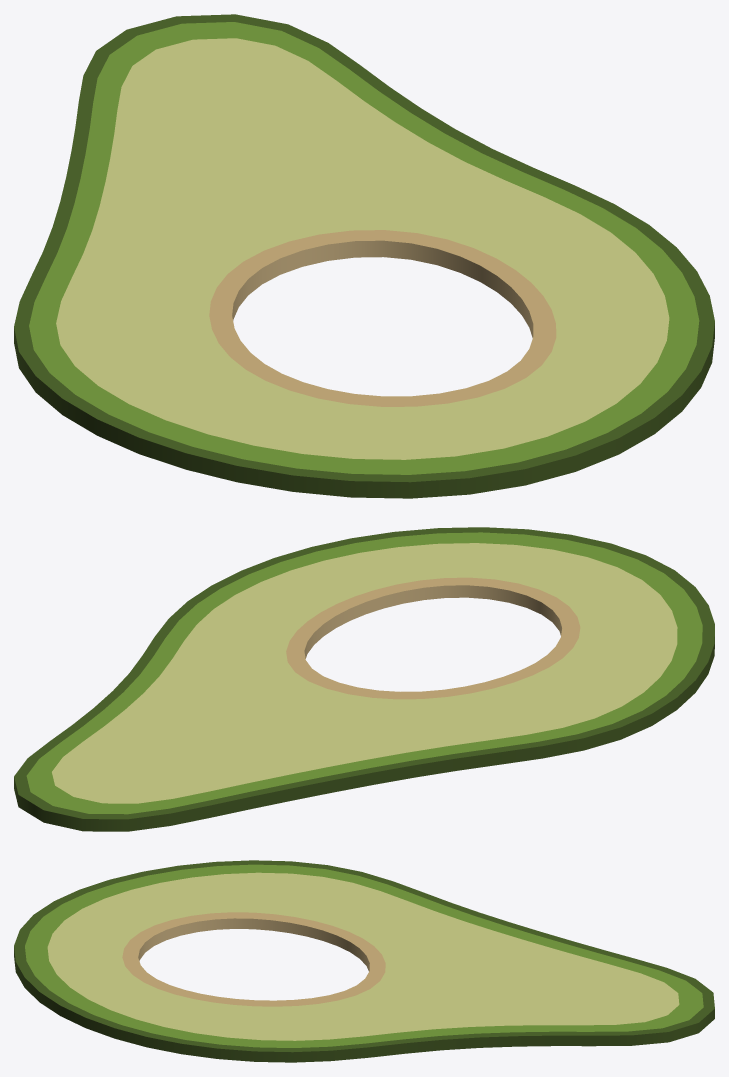
The model's file is Avocado Slice A.fbx.
3 renders of one model, top to bottom at view 1: azimuth 30°, elevation 25°; view 2: azimuth 150°, elevation 25°; view 3: azimuth 270°, elevation 25°, orthographic. The views are drawn at different scales.
Parts seen in each view (by area): view 1: Avocado Slice A; view 2: Avocado Slice A; view 3: Avocado Slice A.
Part boxes in pixels (x1,y1,x2,y2): Avocado Slice A: (14,14,714,498); Avocado Slice A: (14,527,714,831); Avocado Slice A: (14,860,714,1062).
Size of the model in its own units: 0.3848 by 0.00978 by 0.5941.
